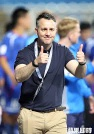male: (36, 12, 58, 47)
